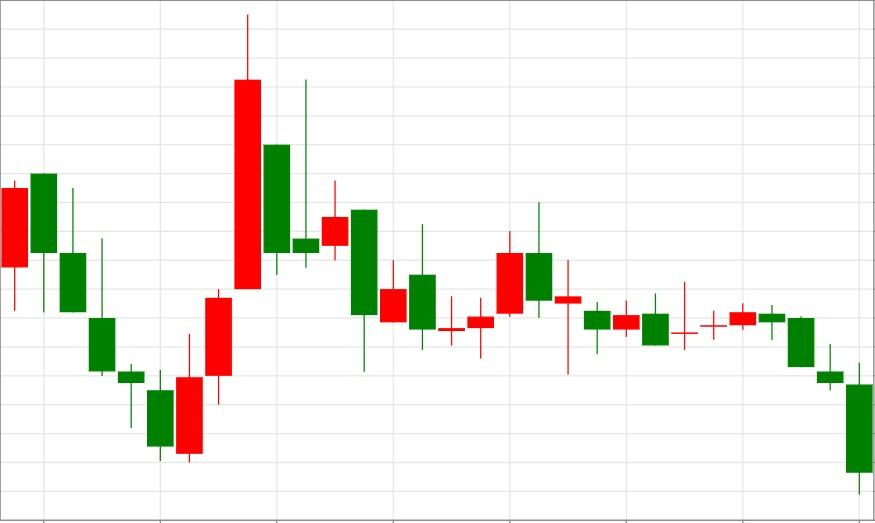three_white_soldiers_rise: (30, 14, 262, 462)
